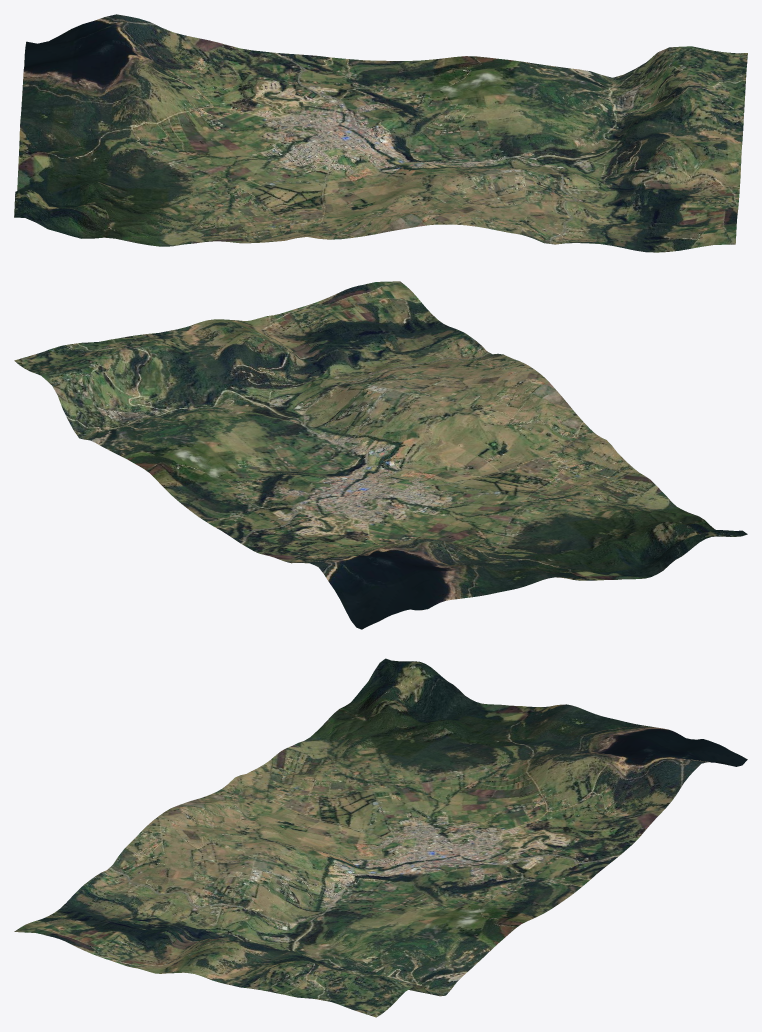
File: mapa.glb
3 renders of one model, top to bottom at view 1: azimuth 30°, elevation 25°; view 2: azimuth 150°, elevation 25°; view 3: azimuth 270°, elevation 25°, orthographic. The views are drawn at different scales.
Parts seen in each view (by area): view 1: Mapa; view 2: Mapa; view 3: Mapa.
Boxes of the visible parts, x1,y1,x2,y2 form: Mapa: (14,14,747,252); Mapa: (14,281,747,629); Mapa: (14,658,747,1017).
Size of the model in its own units: 4298 by 327 by 3815.
Materials: 1 (1 with a texture image).
